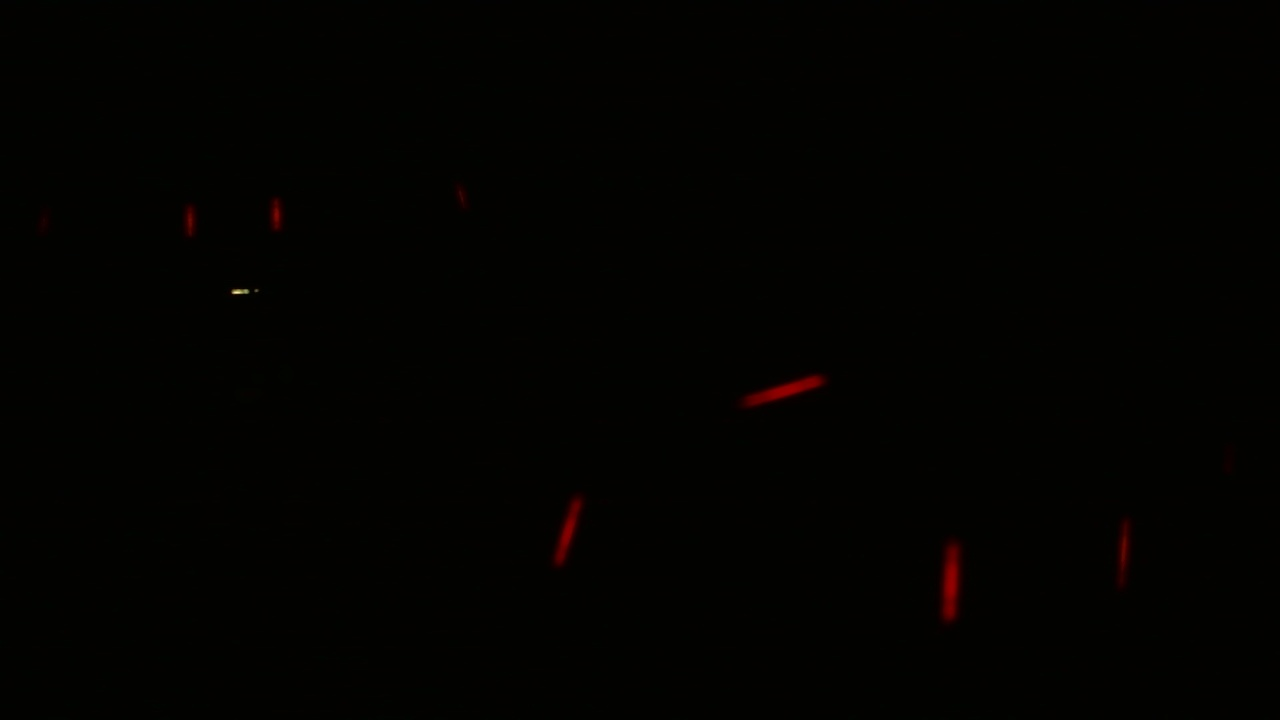pair1: (937, 510, 1133, 612), (177, 192, 289, 240)
